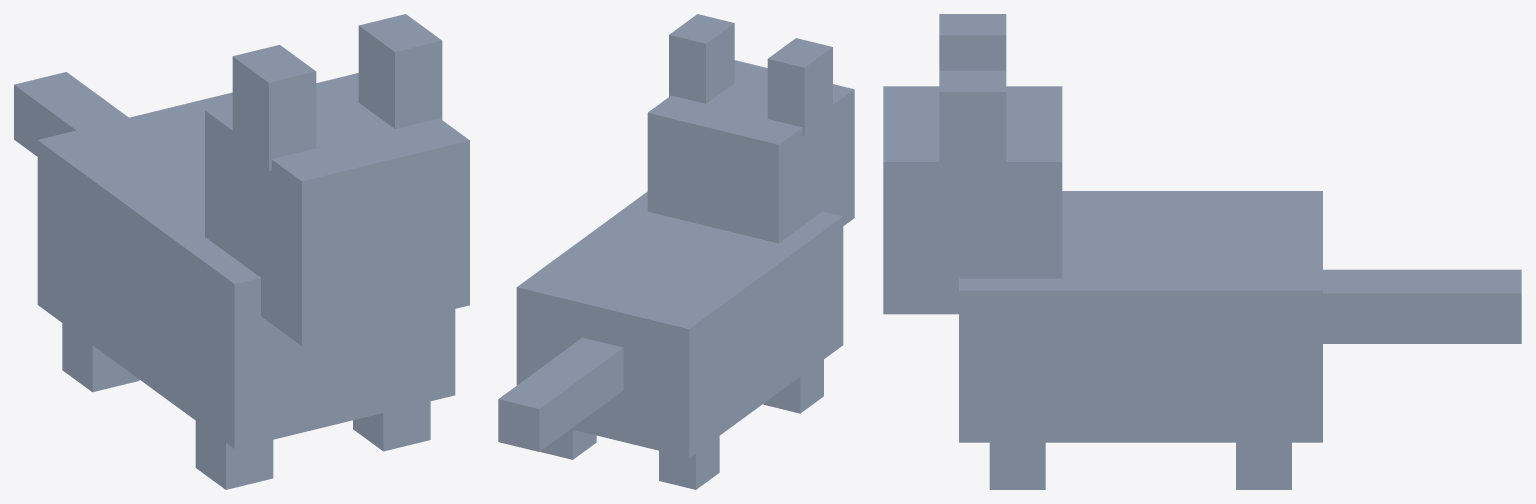
3 views of the same model, side by side, from view 1: azimuth 30°, elevation 25°; view 2: azimuth 150°, elevation 25°; view 3: azimuth 270°, elevation 25° (orthographic). The views are drawn at different scales.
Visible parts, largest first — view 1: placeholder_cat; view 2: placeholder_cat; view 3: placeholder_cat.
Part boxes in pixels (<box>): placeholder_cat: <box>14,14,469,489</box>; placeholder_cat: <box>498,14,854,489</box>; placeholder_cat: <box>883,14,1521,489</box>.
Bounding box in the file's own units: 0.42 × 0.77 × 1.14.
